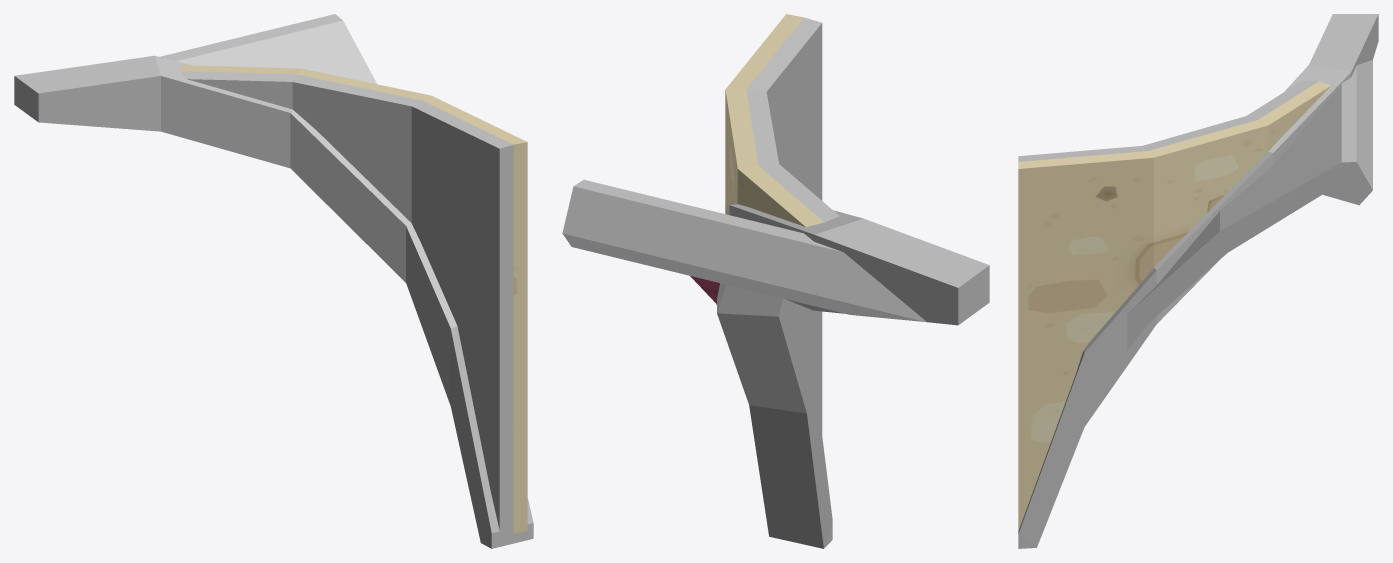
File: SM_Bld_Roof_Convex_Tower_03.fbx
3 renders of one model, left to right at view 1: azimuth 30°, elevation 25°; view 2: azimuth 150°, elevation 25°; view 3: azimuth 270°, elevation 25°, orthographic. The views are drawn at different scales.
Visible parts, largest first — view 1: SM_Bld_Roof_Convex_Tower_03; view 2: SM_Bld_Roof_Convex_Tower_03; view 3: SM_Bld_Roof_Convex_Tower_03.
Boxes of the visible parts, box(x1,y1,x2,y2) form: SM_Bld_Roof_Convex_Tower_03: box(14, 14, 533, 548); SM_Bld_Roof_Convex_Tower_03: box(562, 14, 989, 548); SM_Bld_Roof_Convex_Tower_03: box(1018, 14, 1378, 548).
Size of the model in its own units: 266 by 312 by 266.
